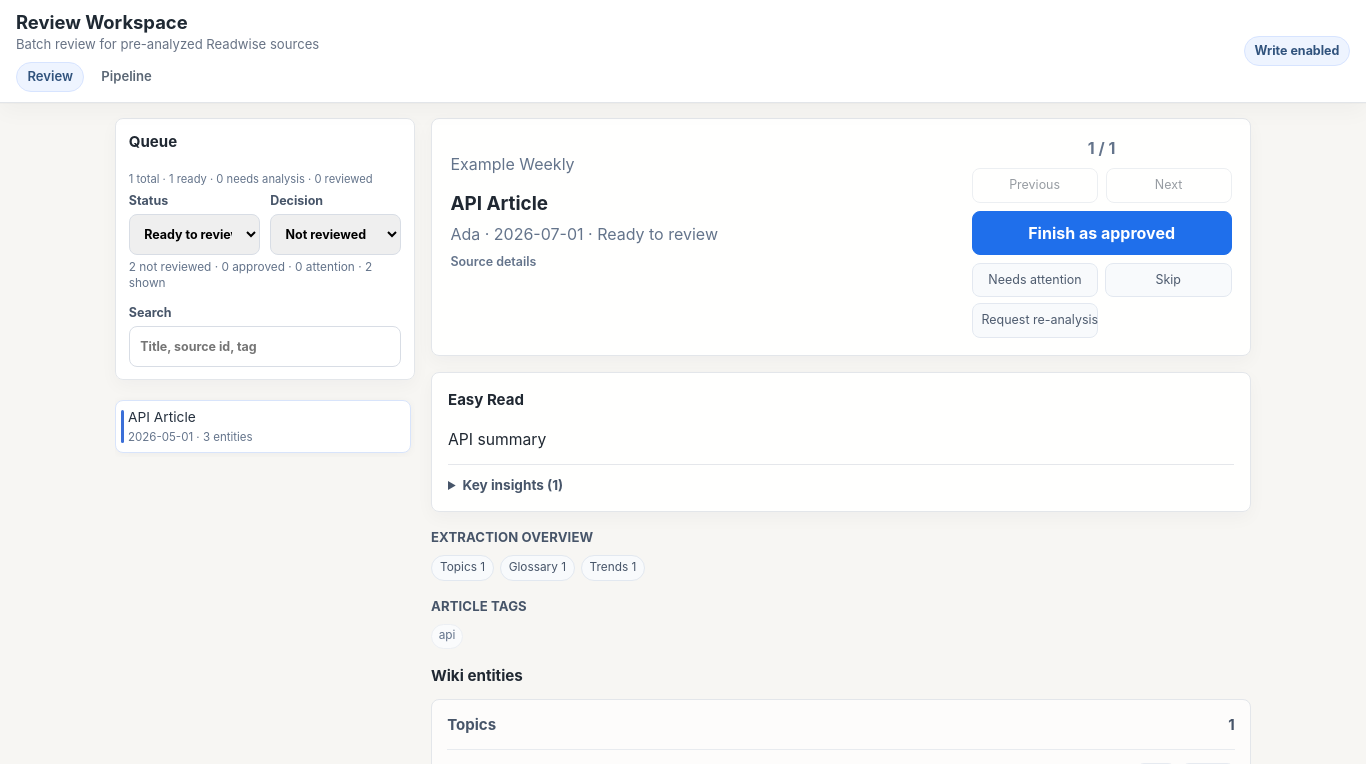
Scenario: App › clears the selected source after finishing the last undecided source
The width and height of the screenshot is (1366, 764).
Check: the text "API summary" is shown, box [448, 430, 546, 449]
Step 1. Click the button "Finish as approved" → (1102, 233), box [972, 211, 1232, 255]
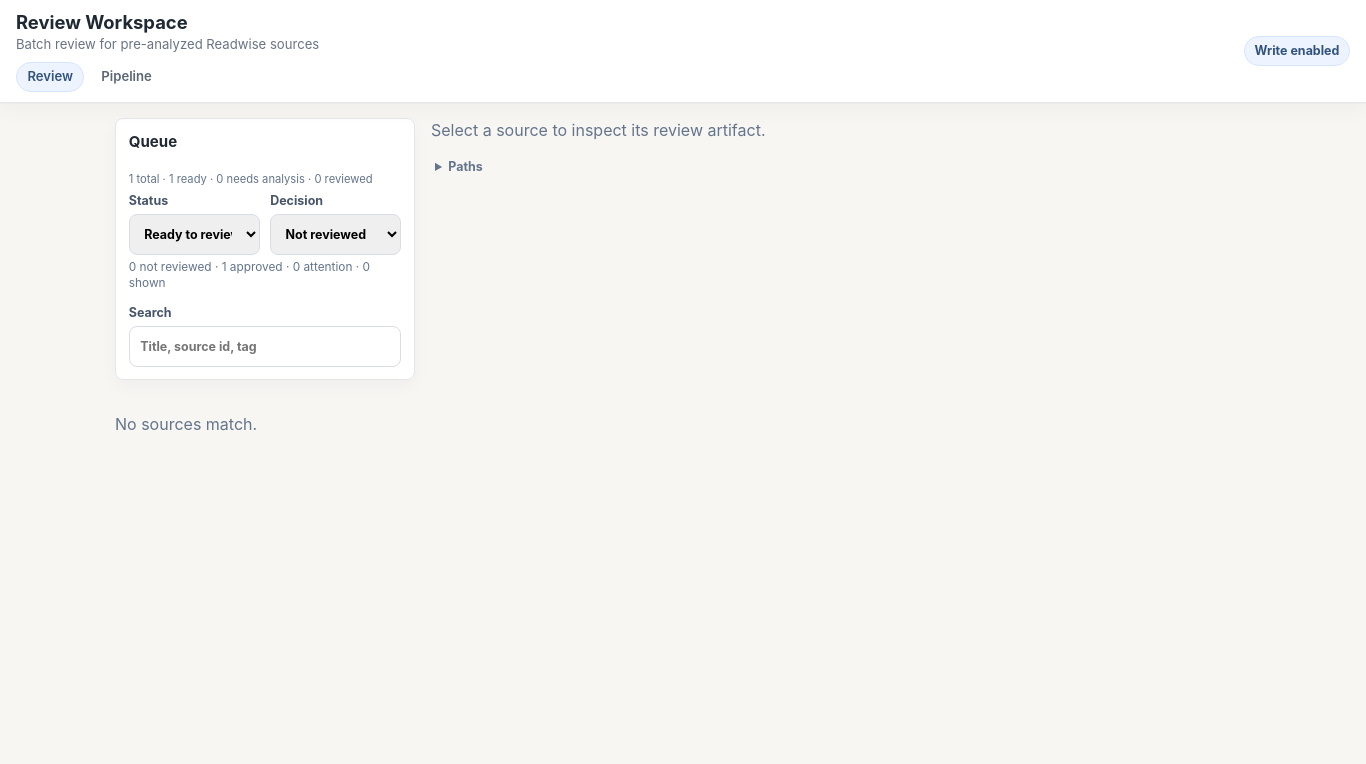
Check: the text "No sources match." is shown, box [115, 414, 257, 434]
Check: the text "Select a source to inspect its review artifact." is shown, box [431, 120, 766, 140]
